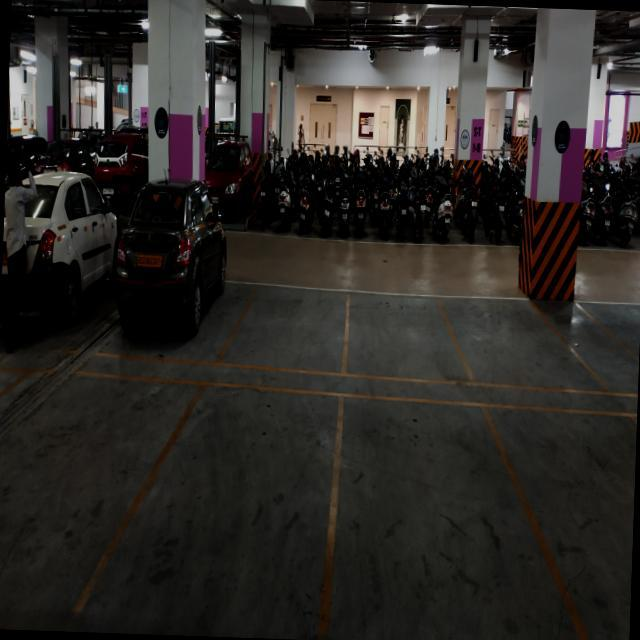car: (80, 260, 240, 372), (0, 239, 103, 355)
free: (328, 392, 530, 630), (140, 397, 349, 620), (0, 381, 146, 609), (544, 395, 638, 625), (218, 278, 356, 382), (341, 284, 454, 392), (460, 296, 550, 401)
